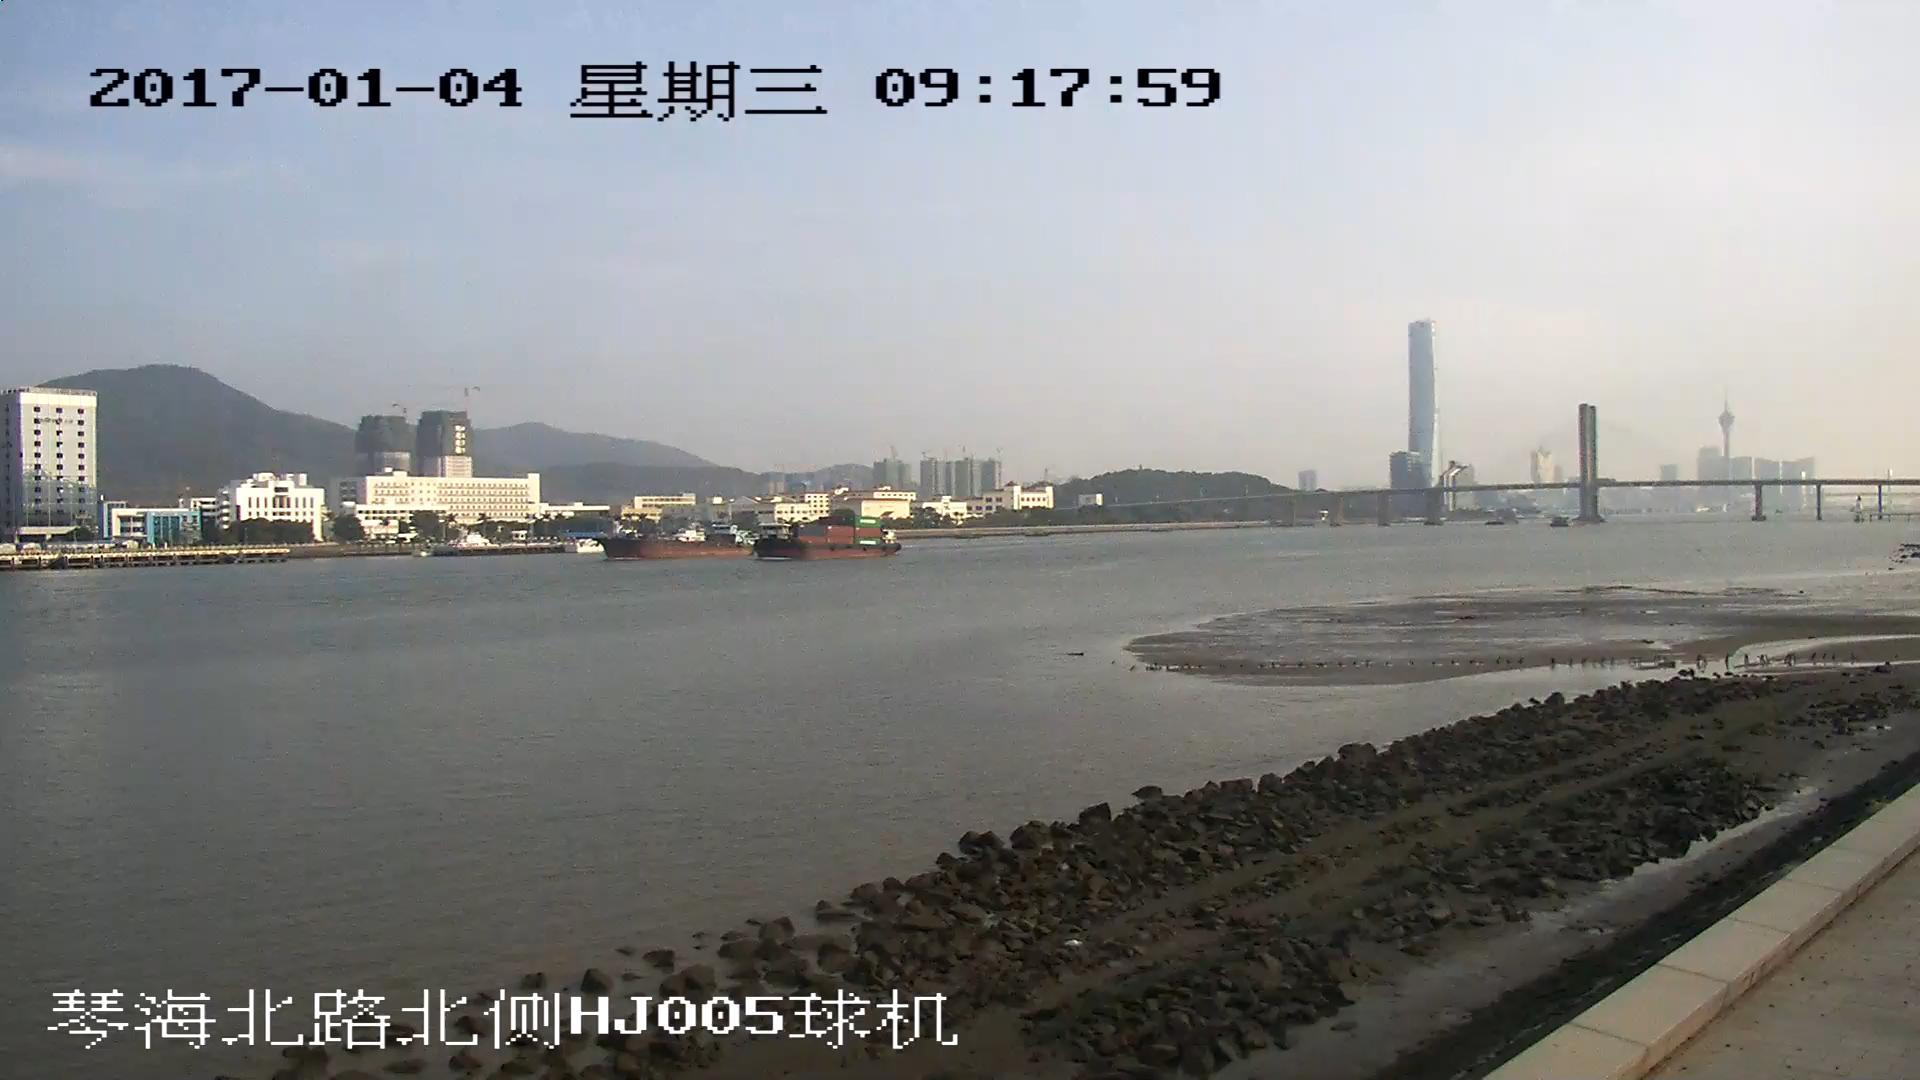Ship: (758, 510, 898, 560)
